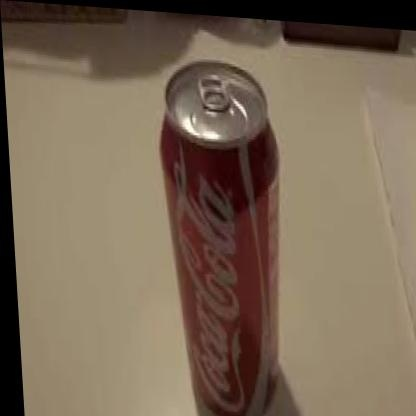trash: (161, 61, 277, 415)
